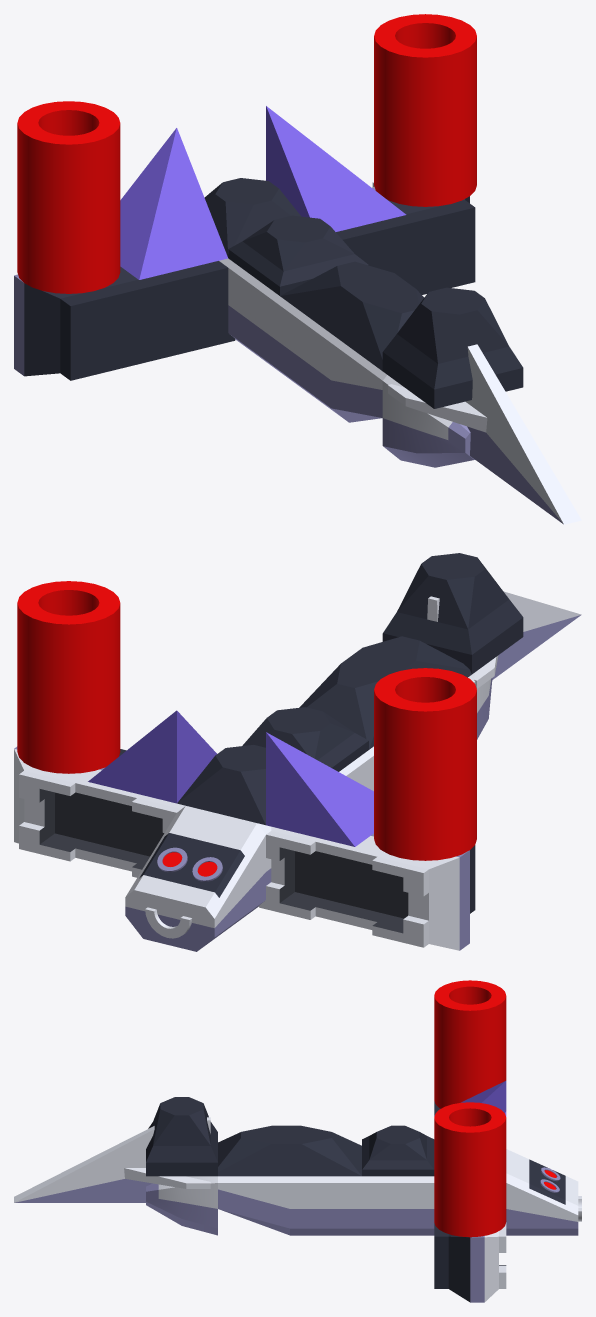
File: LeahNogaNaomiShipCat.fbx
3 views of the same model, one above another, from view 1: azimuth 30°, elevation 25°; view 2: azimuth 150°, elevation 25°; view 3: azimuth 270°, elevation 25° (orthographic). The views are drawn at different scales.
Visible parts, largest first — view 1: cylinderHollow (×2), engine_turbineSquare (×2), wedge_cornerOuter (×2), window_dome (×2), window_domeRound (×2), rudder_sides, hull_body (×2), hull_frontNose, hull_slant; view 2: cylinderHollow (×2), engine_turbineSquare (×2), window_dome (×2), wedge_cornerOuter (×2), hull_cockpitSlant, window_domeRound (×2), rudder_sides, window_round (×2), cylinderHollow_half, hull_frontNose, hull_body; view 3: cylinderHollow (×2), hull_body (×2), window_dome (×2), window_domeRound, rudder_sides, hull_cockpitSlant, engine_turbineSquare, hull_slant, hull_frontNose, wedge_cornerOuter.
Part boxes in pixels (x1,y1,x2,y2): cylinderHollow (×2): (17,14,476,293); engine_turbineSquare (×2): (14,182,475,380); wedge_cornerOuter (×2): (120,106,406,279); window_dome (×2): (228,215,523,408); window_domeRound (×2): (204,178,424,370); rudder_sides: (388,344,581,524); hull_body (×2): (228,262,347,421); hull_frontNose: (382,375,474,467); hull_slant: (331,337,386,422); cylinderHollow (×2): (17,581,476,860); engine_turbineSquare (×2): (14,746,475,950); window_dome (×2): (242,553,523,771); wedge_cornerOuter (×2): (88,710,373,846); hull_cockpitSlant: (125,806,265,951); window_domeRound (×2): (177,636,471,825); rudder_sides: (427,591,581,688); window_round (×2): (157,847,222,881); cylinderHollow_half: (145,907,192,938); hull_frontNose: (468,672,492,739); hull_body: (339,753,368,788); cylinderHollow (×2): (434,980,506,1237); hull_body (×2): (290,1176,434,1235); window_dome (×2): (146,1097,434,1176); window_domeRound: (218,1125,361,1176); rudder_sides: (14,1117,210,1202); hull_cockpitSlant: (506,1149,578,1235); engine_turbineSquare: (434,1222,506,1302); hull_slant: (218,1176,289,1235); hull_frontNose: (146,1176,217,1235); wedge_cornerOuter: (434,1081,506,1116).
Size of the model in its own units: 50 by 26 by 78.8.
